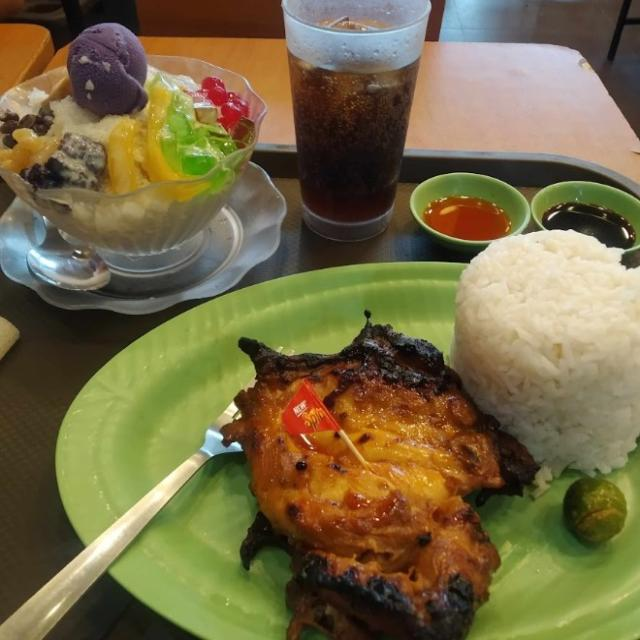Chicken -Chicken Inasal-: (244, 335, 501, 640), (472, 234, 640, 452)
